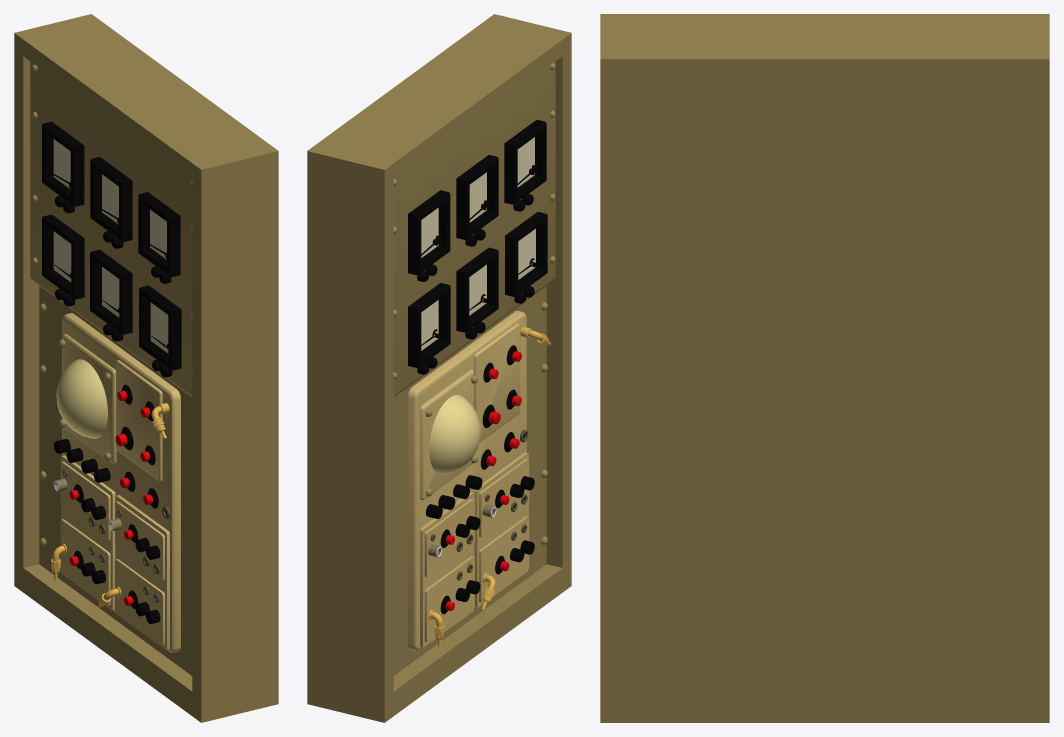
The model's file is PanelControl.fbx.
The picture shows the model from 3 angles, left to right: view 1: azimuth 30°, elevation 25°; view 2: azimuth 150°, elevation 25°; view 3: azimuth 270°, elevation 25°; orthographic projection. The views are drawn at different scales.
Visible parts, largest first — view 1: Cube, Cube.009, Sphere, Cube.012, Cube.013, Cube.001, Cube.015, Cube.011, Cube.014; view 2: Cube, Cube.009, Sphere, Cube.001, Cube.012, Cube.013, Cube.011, Cube.014, Cube.015; view 3: Cube.
Part boxes in pixels (<box>): Cube: <box>14,14,278,722</box>; Cube.009: <box>60,313,180,652</box>; Sphere: <box>56,359,107,438</box>; Cube.012: <box>139,285,181,370</box>; Cube.013: <box>42,214,84,299</box>; Cube.001: <box>90,249,132,334</box>; Cube.015: <box>42,121,84,206</box>; Cube.011: <box>90,157,132,241</box>; Cube.014: <box>138,192,180,276</box>; Cube: <box>307,14,571,722</box>; Cube.009: <box>408,310,529,650</box>; Sphere: <box>429,395,480,474</box>; Cube.001: <box>456,247,498,332</box>; Cube.012: <box>505,212,547,296</box>; Cube.013: <box>408,283,450,367</box>; Cube.011: <box>456,155,498,239</box>; Cube.014: <box>504,119,546,204</box>; Cube.015: <box>408,190,450,275</box>; Cube: <box>600,14,1049,722</box>.
Bounding box in the file's own units: 87.53 × 468 × 287.
